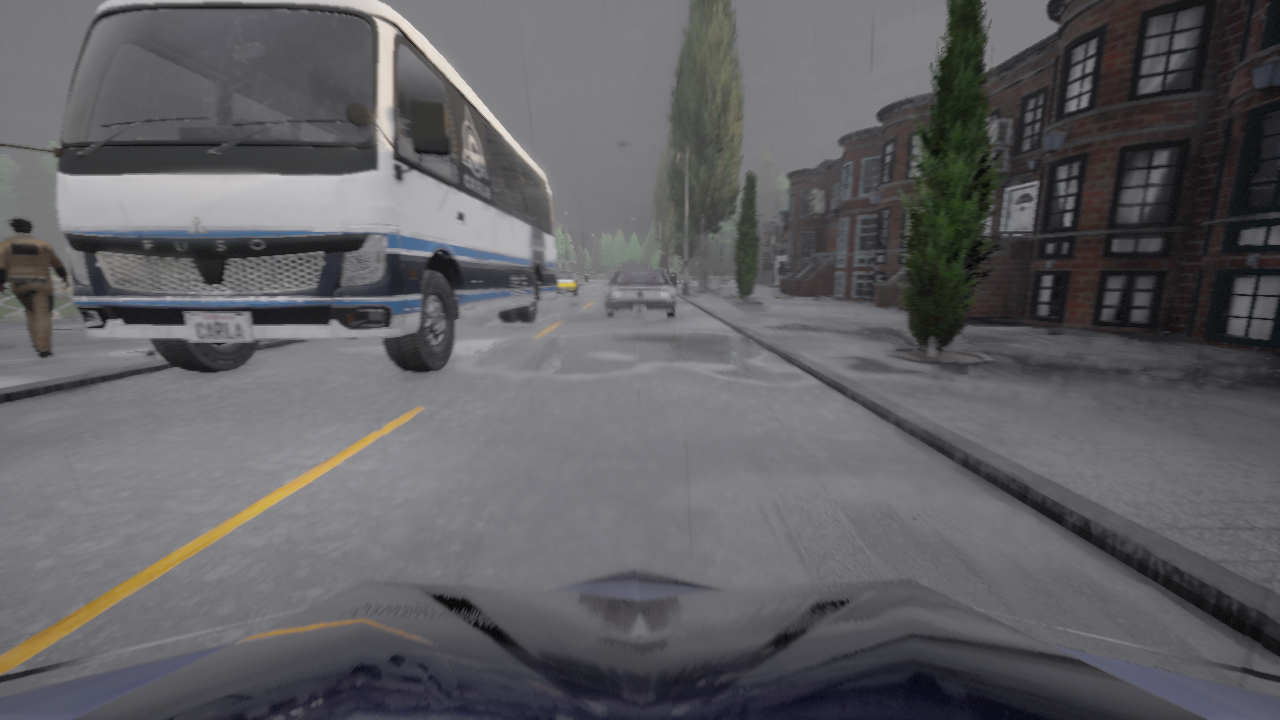cyclist: (0, 0, 556, 372), (0, 569, 1279, 719), (603, 271, 676, 318), (557, 271, 577, 296), (627, 265, 652, 270)
pedestrian: (0, 217, 68, 356)
